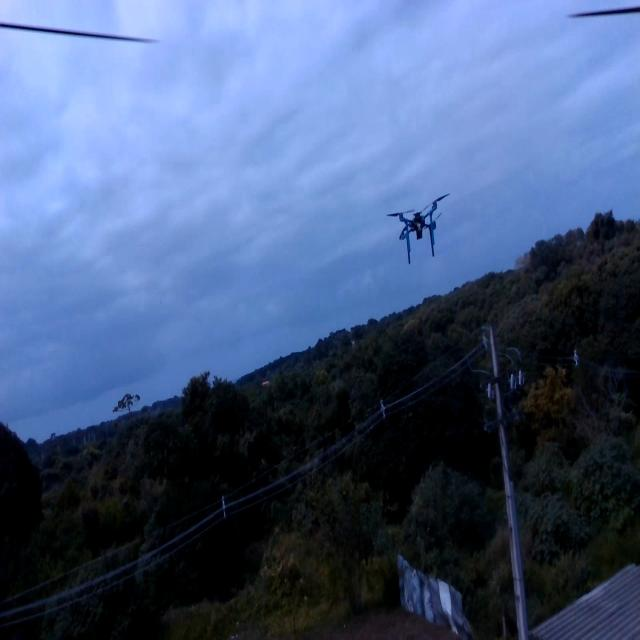-uav-: (382, 182, 457, 268)
